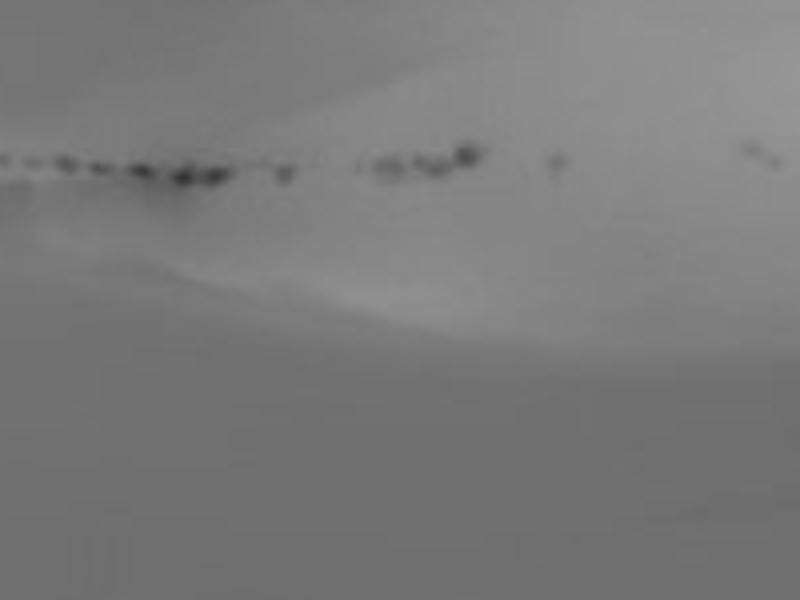defect: (411, 151, 453, 180), (372, 154, 405, 187), (195, 164, 230, 190), (450, 140, 481, 168), (126, 159, 157, 184), (50, 151, 79, 176), (166, 164, 198, 186), (544, 153, 573, 177), (21, 153, 46, 179), (740, 136, 763, 158), (274, 163, 294, 187), (767, 152, 787, 174), (88, 157, 112, 173), (1, 149, 14, 175)
